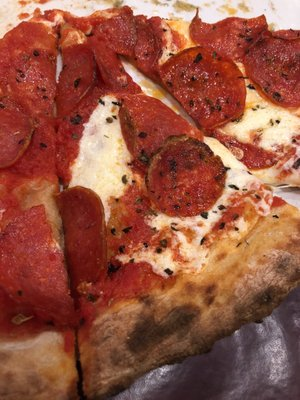sandwich: (2, 2, 300, 399)
